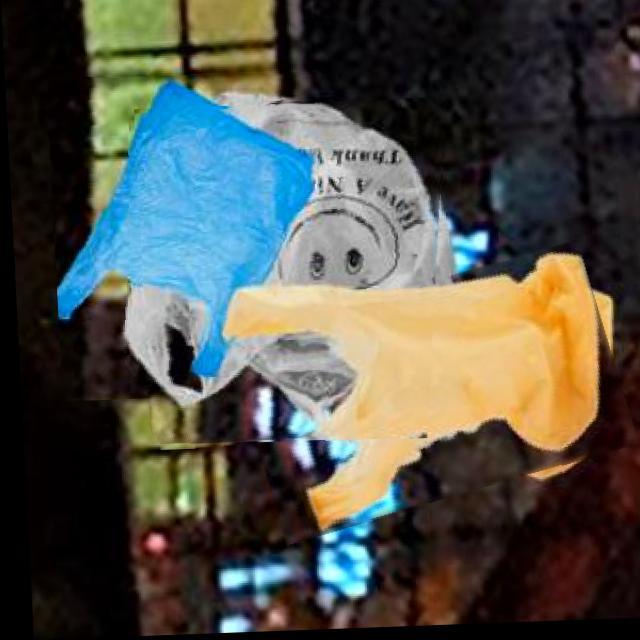plasticcover: (132, 101, 456, 449), (227, 263, 626, 529), (44, 72, 327, 402)
